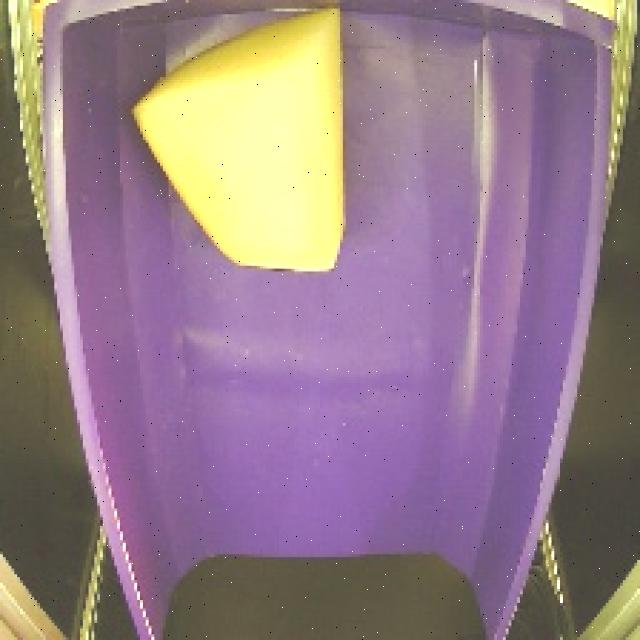potato: (120, 0, 372, 292)
